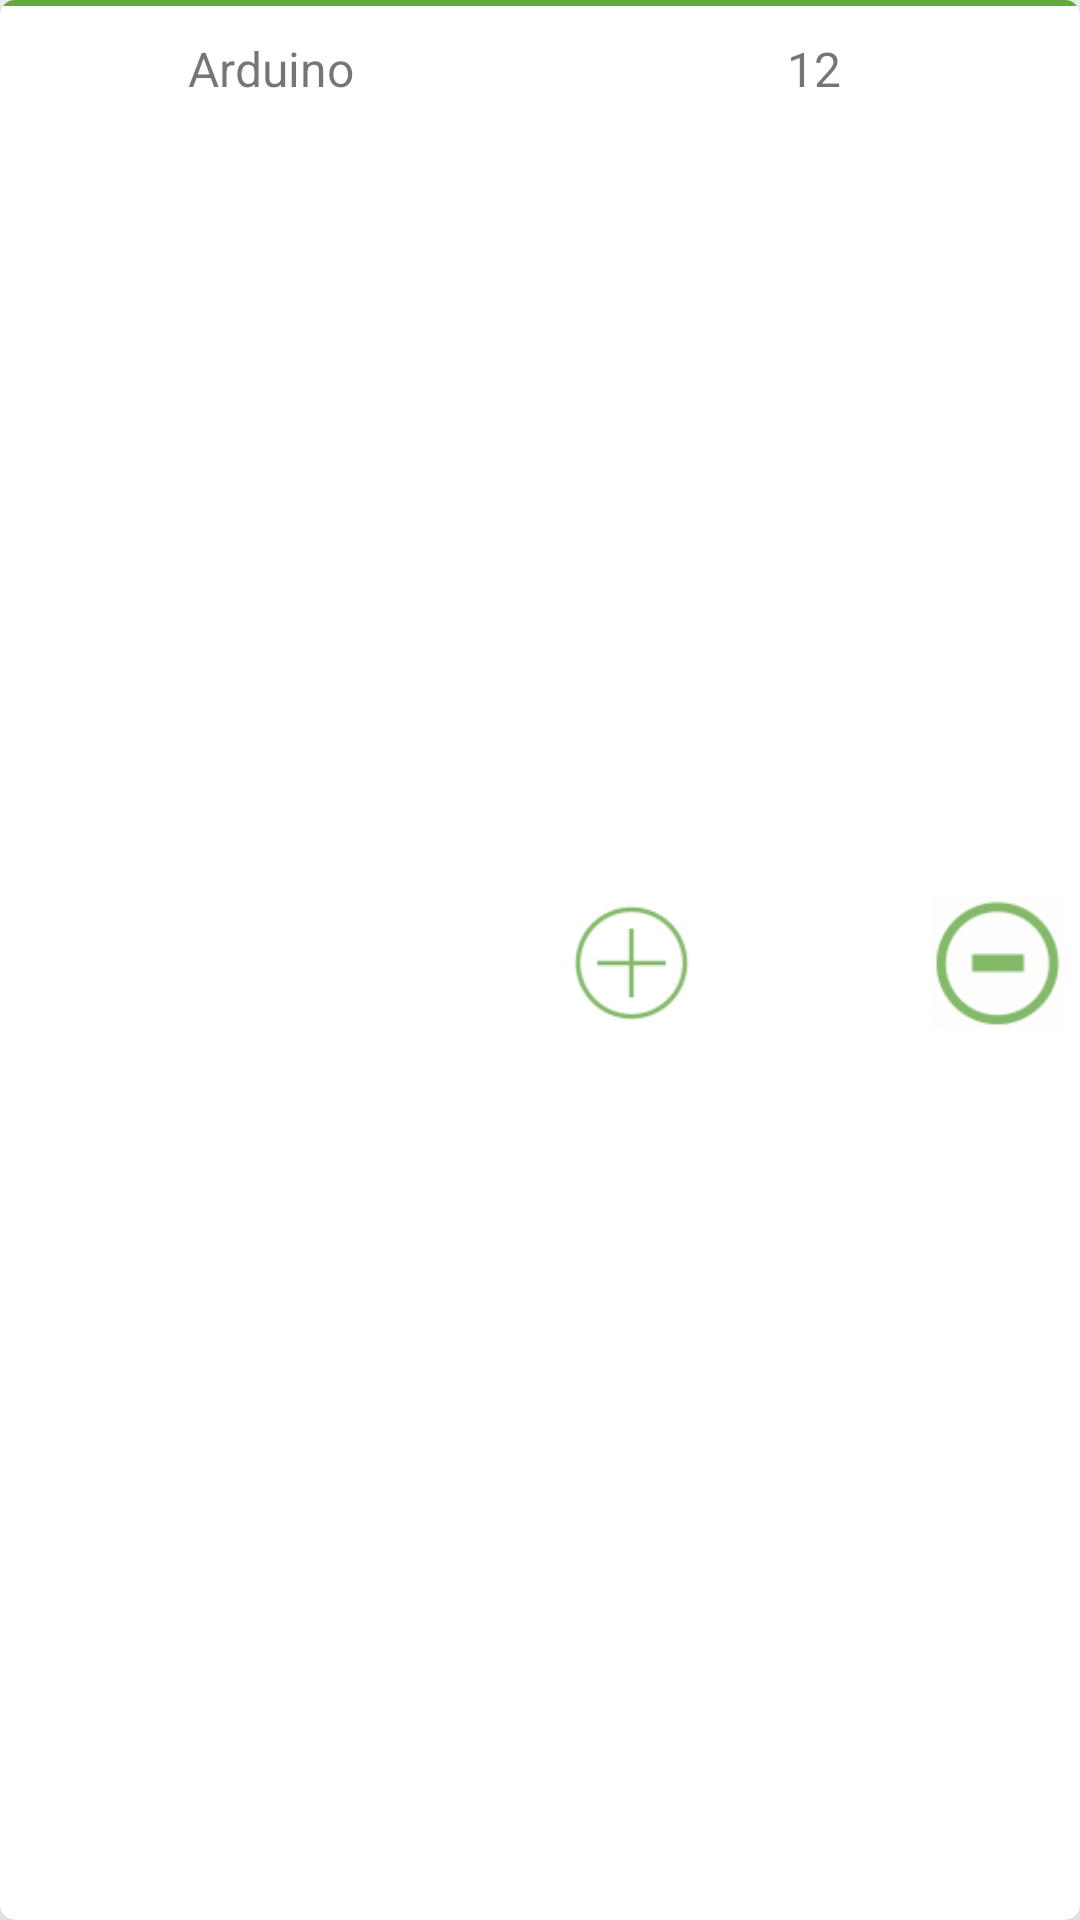

Screen size 1080×1920. Icon name, then its box in pixels as (x1, y1, x2, y2):
plus: (575, 906, 688, 1020)
